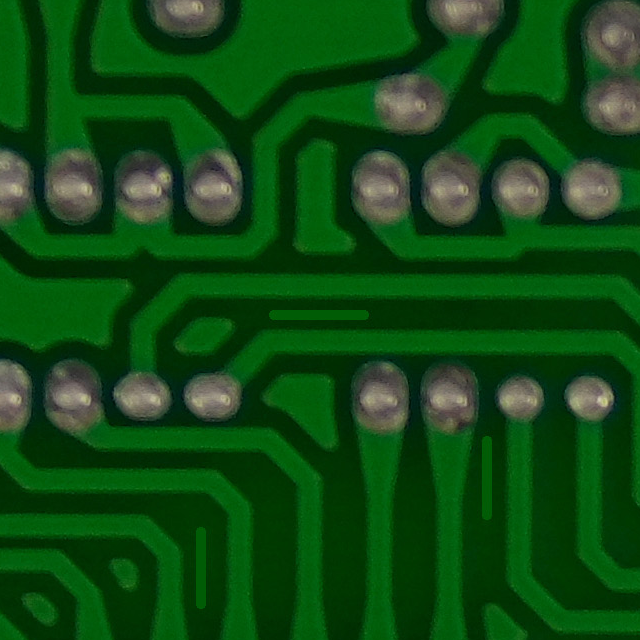spurious_copper: (257, 295, 383, 345), (462, 421, 512, 537), (180, 511, 224, 621)
